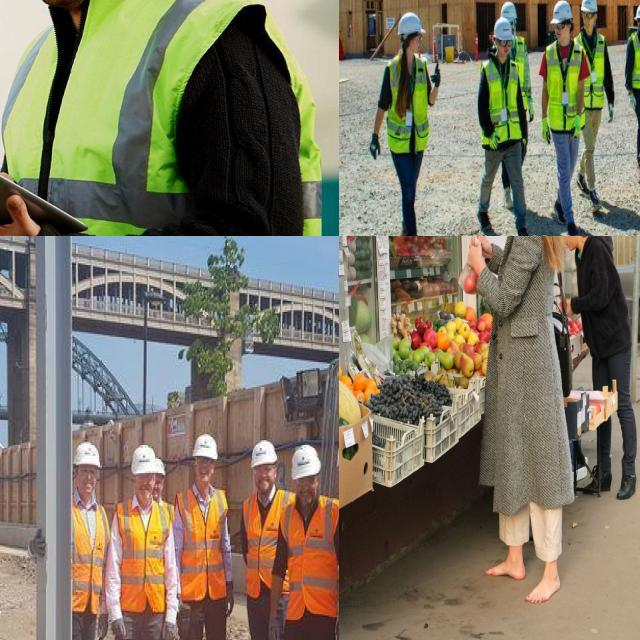Barefoots: (526, 573, 560, 603), (485, 559, 525, 580)
glasses: (496, 36, 514, 51), (552, 20, 566, 34), (582, 8, 596, 22)
hand_glove: (24, 511, 53, 564), (178, 601, 200, 640), (260, 606, 284, 640), (89, 603, 111, 640), (600, 93, 618, 130), (369, 130, 387, 164), (428, 62, 446, 93), (109, 615, 130, 640), (484, 128, 499, 162), (540, 119, 553, 151), (568, 113, 581, 144), (165, 618, 178, 640)
head_helmet: (290, 442, 320, 481), (249, 439, 278, 468), (396, 10, 426, 38), (131, 442, 157, 474), (73, 441, 101, 468), (192, 434, 220, 460), (549, 0, 573, 27), (492, 16, 512, 41), (499, 1, 518, 23), (578, 0, 597, 15), (635, 3, 640, 22)
person: (0, 0, 335, 236), (373, 10, 440, 236), (272, 445, 339, 640), (477, 19, 535, 236), (107, 445, 167, 640), (176, 435, 233, 640), (540, 0, 586, 236), (576, 0, 616, 215), (237, 440, 280, 640), (70, 440, 108, 640), (501, 1, 536, 112), (626, 0, 640, 182)
shoes: (574, 171, 592, 202), (587, 183, 603, 213), (476, 208, 493, 236), (563, 217, 582, 236), (513, 219, 532, 236), (554, 196, 564, 226)
vest: (0, 0, 295, 236), (280, 492, 339, 622), (176, 484, 229, 600), (115, 500, 168, 614), (384, 47, 432, 153), (68, 490, 109, 612), (244, 490, 292, 594), (481, 63, 528, 153), (544, 36, 586, 134), (576, 27, 606, 110), (627, 29, 640, 89)
